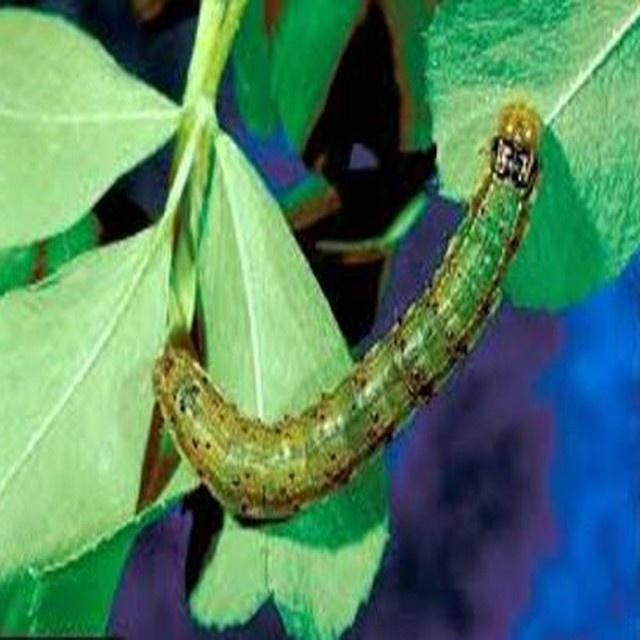worm: (150, 101, 544, 524)
